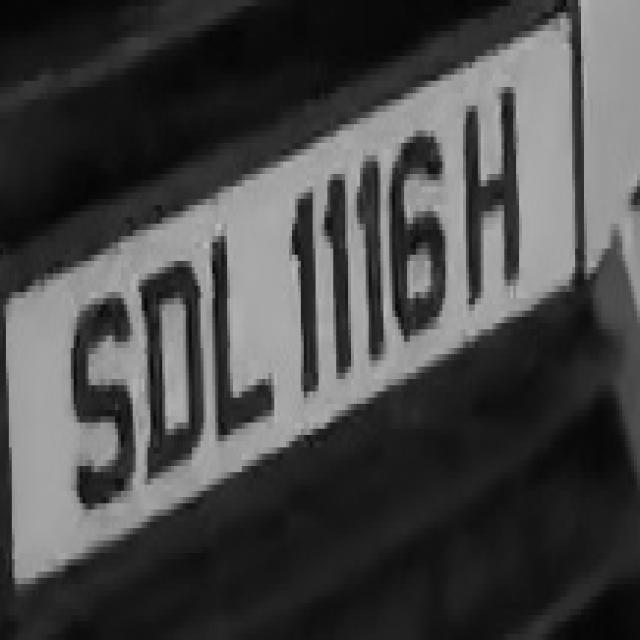1: (286, 168, 325, 429), (321, 155, 360, 410), (354, 143, 386, 404)
6: (390, 99, 454, 373)
D: (132, 230, 204, 478)
H: (454, 68, 528, 311)
L: (204, 218, 283, 448)
S: (62, 280, 136, 516)
